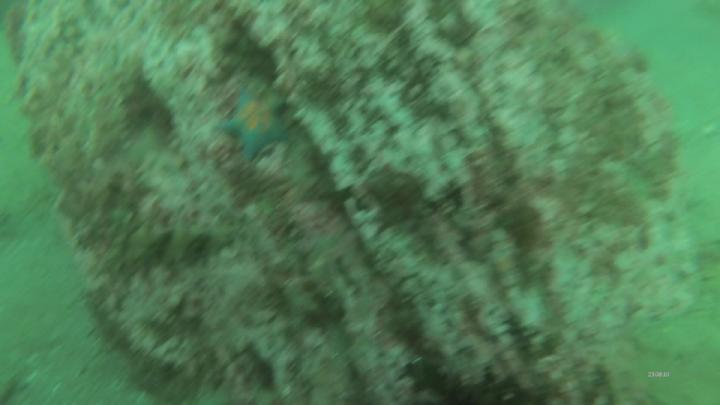holothurian: (83, 71, 128, 162)
starfish: (217, 84, 296, 162)
